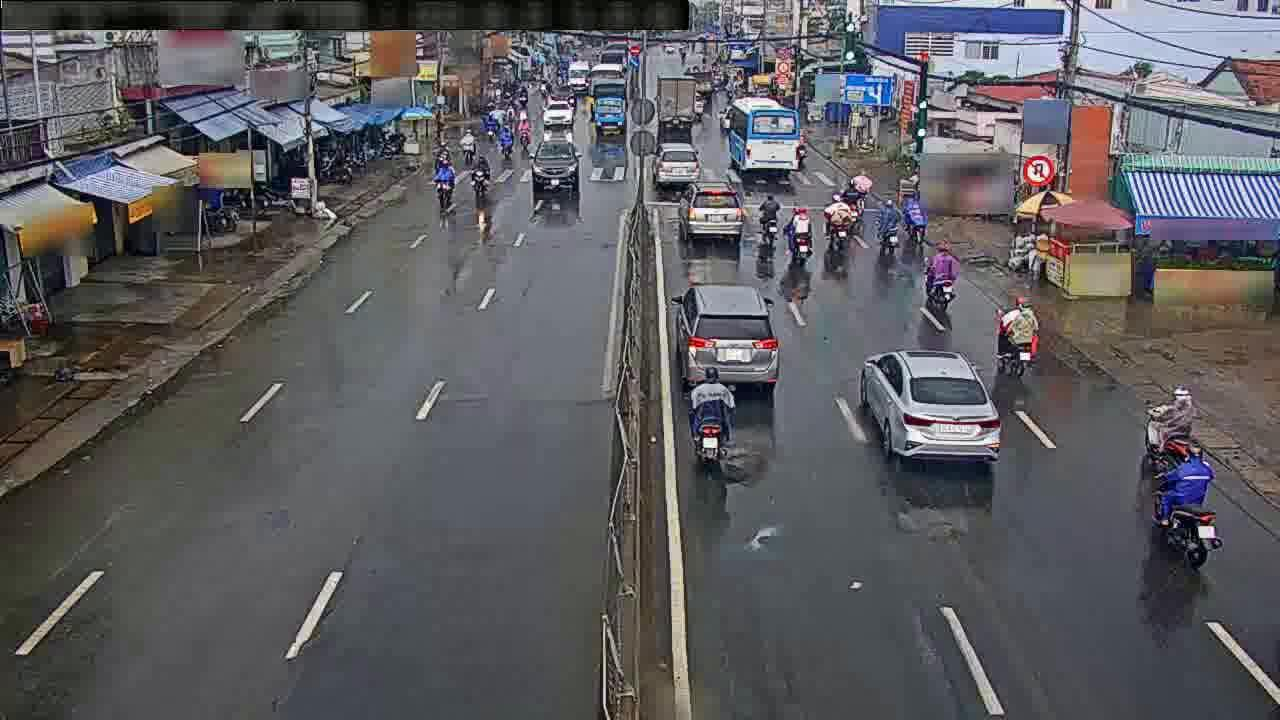container: (854, 340, 993, 468), (677, 291, 786, 396), (679, 185, 744, 240), (532, 139, 579, 191), (648, 142, 701, 188)
motorbike: (1151, 431, 1219, 557), (682, 363, 745, 462), (1152, 381, 1197, 467), (993, 294, 1038, 375), (923, 240, 961, 311), (786, 203, 816, 262), (872, 202, 900, 262), (823, 194, 850, 251), (899, 189, 926, 243), (755, 196, 779, 251), (471, 187, 496, 238), (843, 170, 867, 217), (432, 159, 454, 204), (470, 153, 492, 197), (495, 126, 513, 157)
